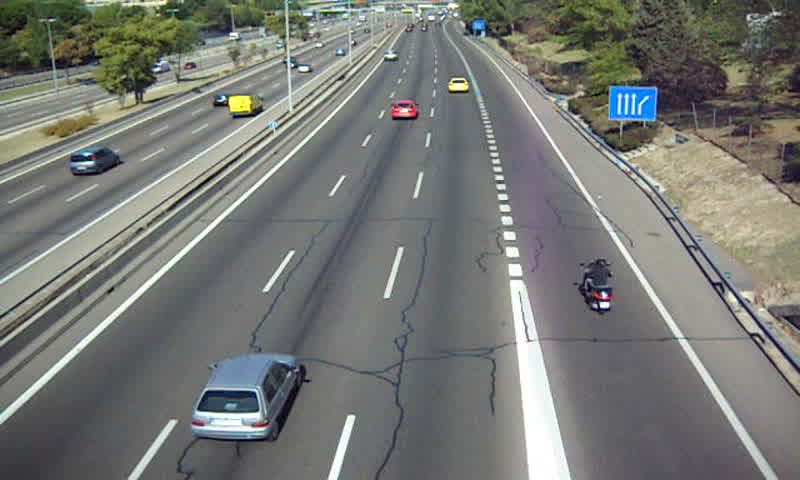car: (189, 354, 304, 442), (389, 99, 418, 120), (448, 78, 470, 94), (383, 51, 398, 62)
motorcycle: (580, 258, 614, 312)
